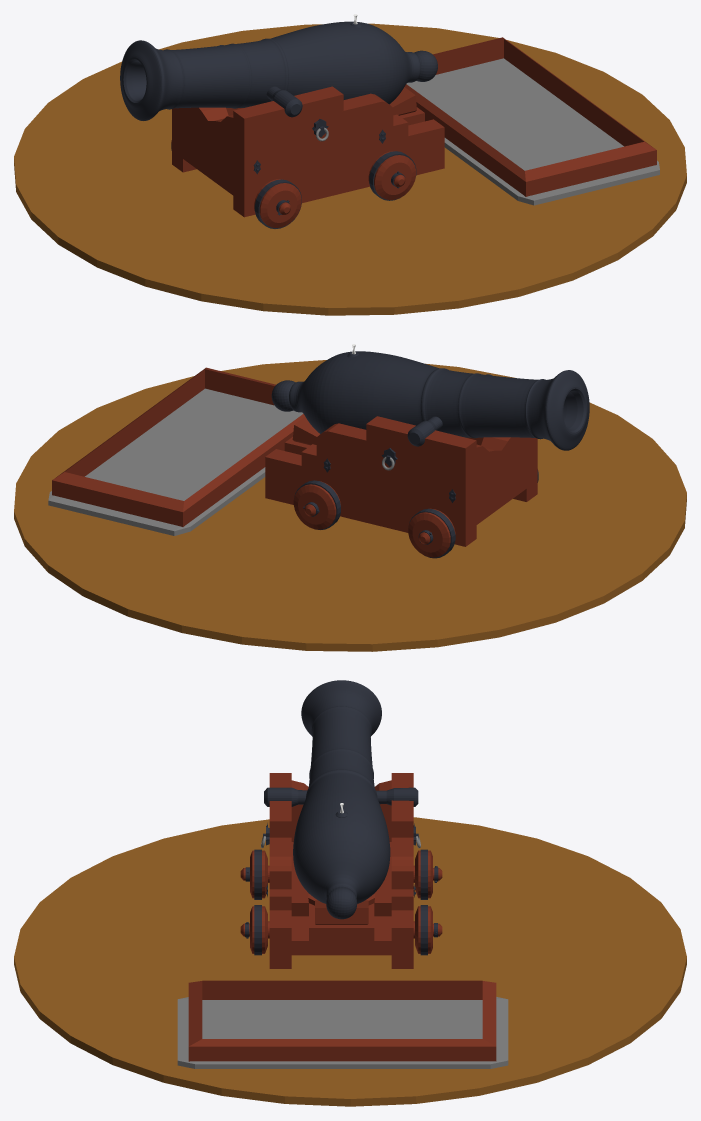
Rendered from cannonball_v2.fbx.
3 views of the same model, one above another, from view 1: azimuth 30°, elevation 25°; view 2: azimuth 150°, elevation 25°; view 3: azimuth 270°, elevation 25° (orthographic).
Parts seen in each view (by area): view 1: Cylinder.018, Cube, Cylinder.001, Cube.007, Cube.006, Cylinder, Cylinder.003, Cylinder.007, Cube.001; view 2: Cylinder.018, Cube, Cylinder.001, Cube.007, Cube.006, Cylinder, Cylinder.003, Cylinder.007, Cube.001; view 3: Cylinder.018, Cylinder.001, Cube.007, Cube, Cube.006, Cylinder.007, Cylinder, Cylinder.003, Cube.001.
Part boxes in pixels (box(x1,y1,x2,y2)): Cylinder.018: box(14, 23, 686, 315); Cube: box(172, 86, 444, 217); Cylinder.001: box(120, 21, 420, 120); Cube.007: box(406, 58, 659, 205); Cube.006: box(404, 37, 656, 196); Cylinder: box(171, 140, 301, 227); Cylinder.003: box(368, 151, 415, 200); Cylinder.007: box(218, 45, 302, 117); Cube.001: box(414, 50, 437, 81); Cylinder.018: box(14, 360, 686, 651); Cube: box(265, 416, 537, 546); Cylinder.001: box(289, 351, 589, 450); Cube.007: box(48, 388, 303, 535); Cube.006: box(52, 367, 304, 526); Cylinder: box(408, 469, 538, 557); Cylinder.003: box(293, 481, 340, 529); Cylinder.007: box(407, 374, 491, 446); Cube.001: box(271, 380, 295, 411); Cylinder.018: box(14, 817, 686, 1106); Cylinder.001: box(293, 680, 390, 903); Cube.007: box(177, 997, 508, 1068); Cube: box(269, 773, 413, 968); Cube.006: box(188, 980, 496, 1061); Cylinder.007: box(264, 787, 418, 806); Cylinder: box(240, 850, 442, 898); Cylinder.003: box(240, 906, 442, 953); Cube.001: box(326, 887, 357, 919).
Size of the model in its own units: 2486 by 748 by 2486.
